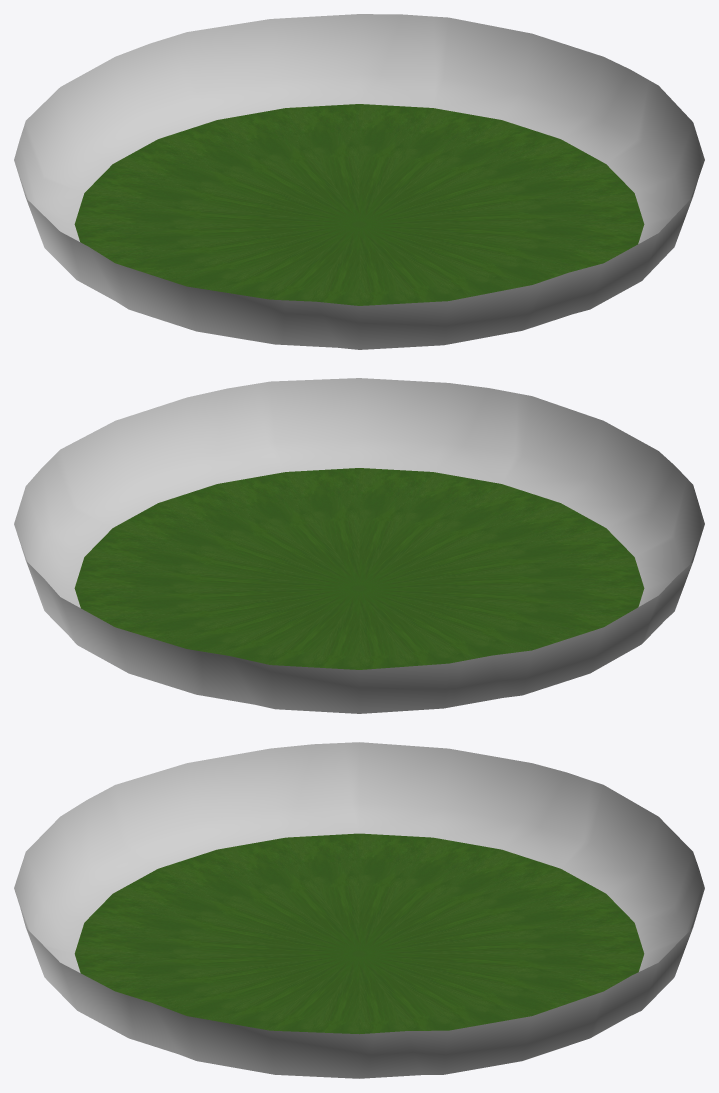
The model's file is SK_DistantView_000.FBX.
The picture shows the model from 3 angles, top to bottom: view 1: azimuth 30°, elevation 25°; view 2: azimuth 150°, elevation 25°; view 3: azimuth 270°, elevation 25°; orthographic projection.
Visible parts, largest first — view 1: SK_DistantView_000, SK_DistantView_000b; view 2: SK_DistantView_000, SK_DistantView_000b; view 3: SK_DistantView_000, SK_DistantView_000b.
Boxes of the visible parts, <box> form: SK_DistantView_000: <box>14,14,704,349</box>; SK_DistantView_000b: <box>74,104,644,305</box>; SK_DistantView_000: <box>14,378,704,713</box>; SK_DistantView_000b: <box>74,468,644,669</box>; SK_DistantView_000: <box>14,742,704,1078</box>; SK_DistantView_000b: <box>74,833,644,1034</box>.
Size of the model in its own units: 9350 by 989 by 9350.
